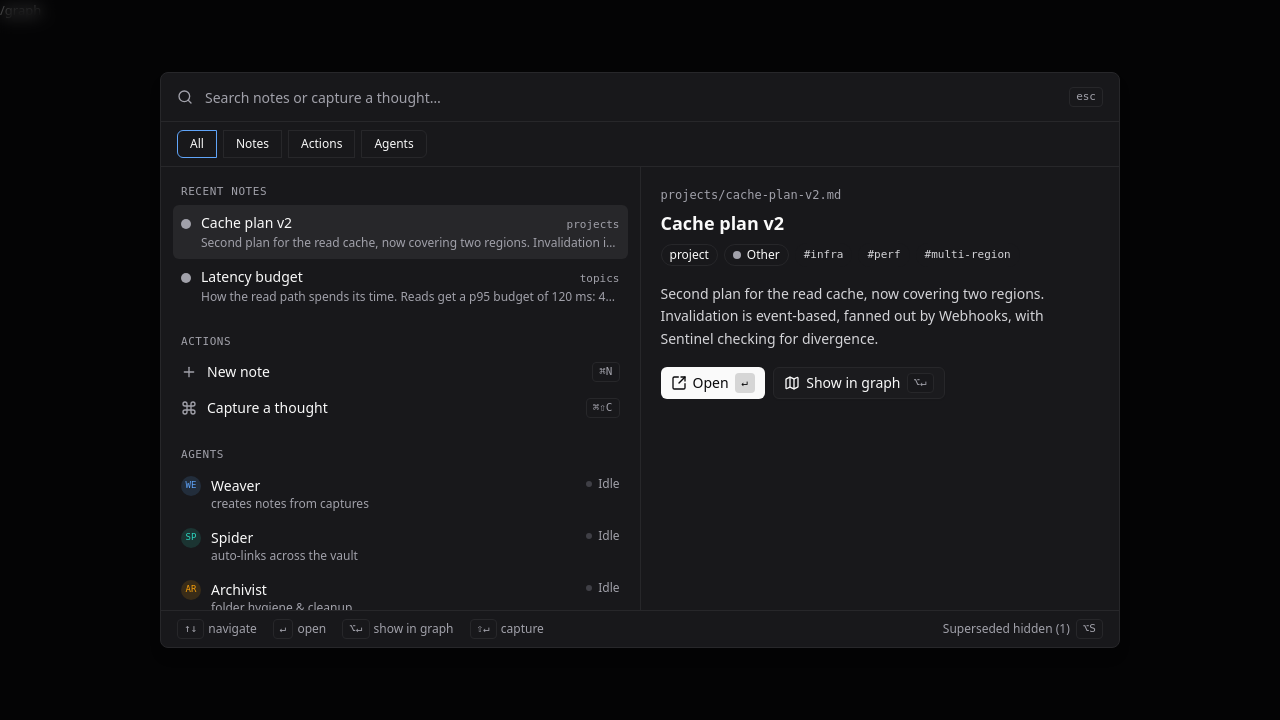
Test: CommandPalette › toggles superseded notes with ⌥S
In the dropdown named "Search notes, actions and agents": (631, 97) [205, 73, 1057, 121], type "cache"
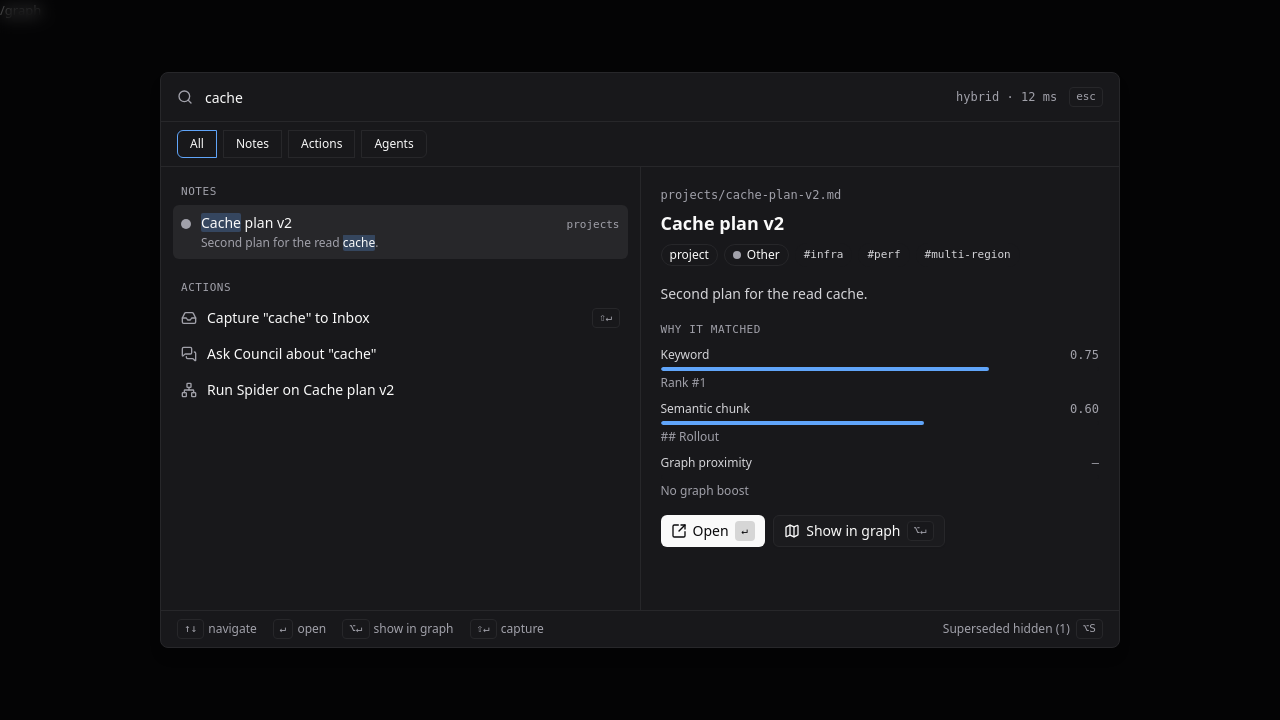
Expected: the option "Cache plan v1" is not shown
Result: the text "hybrid · 12 ms" is shown at [956, 89, 1057, 105]
Type keys "{Alt>}s{/Alt}"
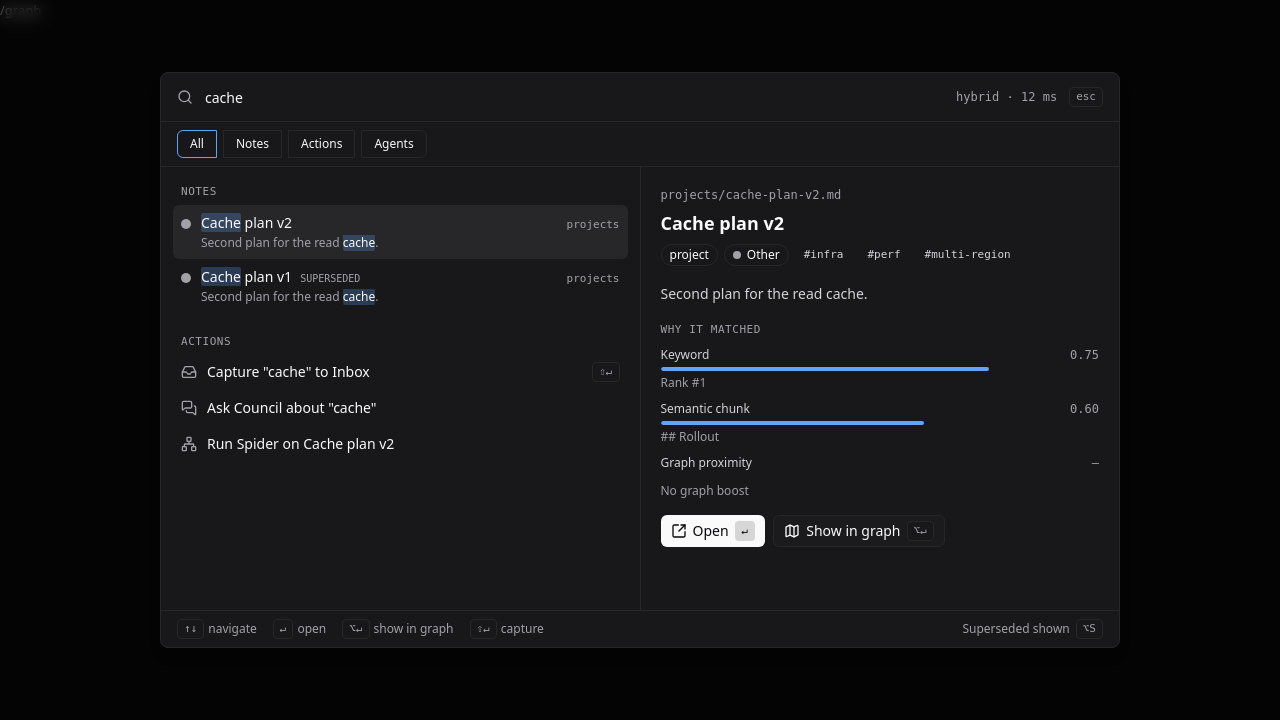
Result: the option "Cache plan v1" is shown at [173, 259, 628, 313]
